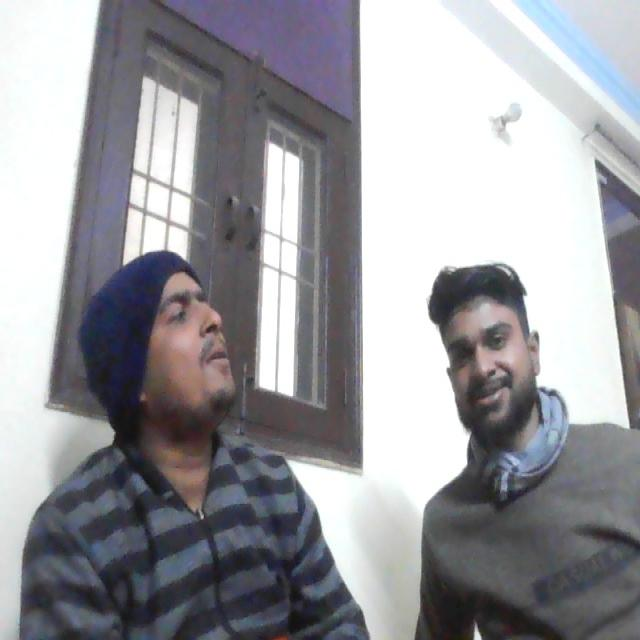real: (124, 194, 251, 434), (440, 251, 540, 440)
